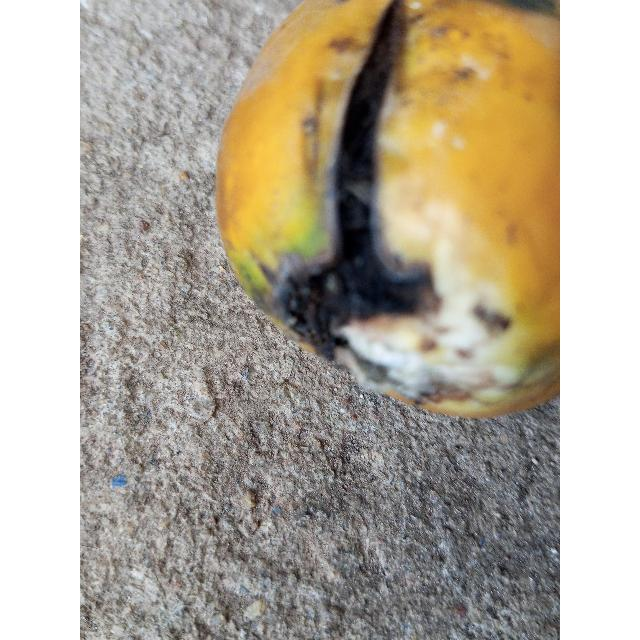damaged: (215, 0, 560, 422)
